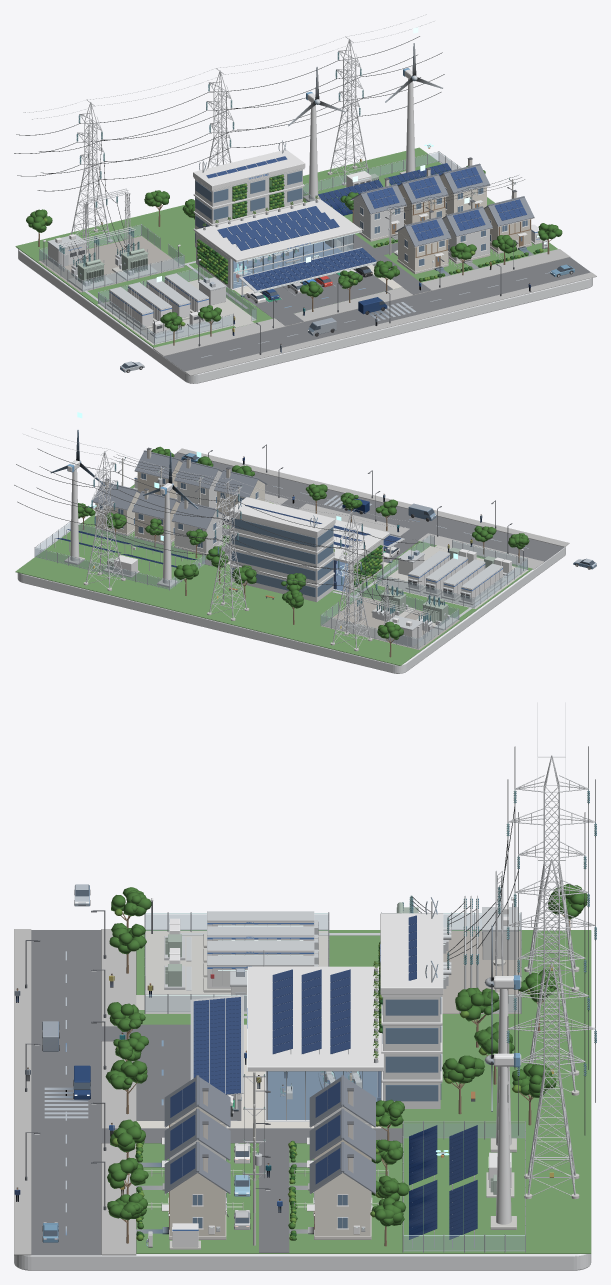
File: smart_utility.glb
3 renders of one model, top to bottom at view 1: azimuth 30°, elevation 25°; view 2: azimuth 150°, elevation 25°; view 3: azimuth 270°, elevation 25°, orthographic. The views are drawn at different scales.
Parts seen in each view (by area): view 1: bake-static_site, bake-static_building, vbake-static_grid, vbake-static_site, bake-hot-microgrid, bake-hot-energy-storage, bake-hot-ami, glass-static_site-glass, vbake-hot-microgrid, vbake-hot-ami, vbake-static_building, vbake-hot-ev-integration (+8 smaller); view 2: bake-static_site, vbake-static_grid, bake-static_building, vbake-static_site, bake-hot-ami, glass-static_site-glass, bake-hot-energy-storage, bake-hot-microgrid, bake-hot-renewable-energy, glass-static_grid-glass, bake-static_grid, vbake-static_homes (+6 smaller); view 3: bake-static_site, bake-static_building, vbake-static_grid, vbake-static_site, bake-hot-microgrid, bake-hot-energy-storage, bake-hot-ami, vbake-hot-renewable-energy, vbake-static_homes, glass-static_site-glass, bake-hot-renewable-energy, vbake-hot-ev-integration (+7 smaller).
Boxes of the visible parts, left/top/right/bottom form: bake-static_site: left=15, top=147, right=596, bottom=383; bake-static_building: left=193, top=149, right=361, bottom=290; vbake-static_grid: left=14, top=14, right=444, bottom=292; vbake-static_site: left=26, top=151, right=562, bottom=357; bake-hot-microgrid: left=394, top=191, right=542, bottom=274; bake-hot-energy-storage: left=106, top=273, right=226, bottom=338; bake-hot-ami: left=350, top=159, right=489, bottom=241; glass-static_site-glass: left=98, top=152, right=459, bottom=343; vbake-hot-microgrid: left=395, top=190, right=547, bottom=270; vbake-hot-ami: left=350, top=157, right=490, bottom=238; vbake-static_building: left=196, top=142, right=353, bottom=288; vbake-hot-ev-integration: left=240, top=248, right=376, bottom=303; bake-static_site: left=15, top=448, right=569, bottom=673; vbake-static_grid: left=14, top=428, right=459, bottom=651; bake-static_building: left=228, top=497, right=389, bottom=602; vbake-static_site: left=34, top=444, right=529, bottom=657; bake-hot-ami: left=92, top=477, right=225, bottom=555; glass-static_site-glass: left=35, top=522, right=527, bottom=607; bake-hot-energy-storage: left=397, top=547, right=513, bottom=604; bake-hot-microgrid: left=133, top=449, right=267, bottom=525; bake-hot-renewable-energy: left=64, top=460, right=177, bottom=587; glass-static_grid-glass: left=321, top=586, right=458, bottom=648; bake-static_grid: left=371, top=590, right=457, bottom=646; vbake-static_homes: left=78, top=454, right=273, bottom=558; bake-static_site: left=14, top=929, right=591, bottom=1270; bake-static_building: left=247, top=913, right=443, bottom=1121; vbake-static_grid: left=381, top=702, right=596, bottom=1199; vbake-static_site: left=25, top=884, right=587, bottom=1252; bake-hot-microgrid: left=164, top=1077, right=249, bottom=1249; bake-hot-energy-storage: left=164, top=911, right=314, bottom=1010; bake-hot-ami: left=253, top=1077, right=375, bottom=1239; vbake-hot-renewable-energy: left=409, top=975, right=520, bottom=1248; vbake-static_homes: left=135, top=1074, right=409, bottom=1246; glass-static_site-glass: left=146, top=914, right=524, bottom=1251; bake-hot-renewable-energy: left=486, top=976, right=521, bottom=1229; vbake-hot-ev-integration: left=193, top=997, right=241, bottom=1113.
Size of the model in its own units: 98.21 by 33.55 by 66.66.
